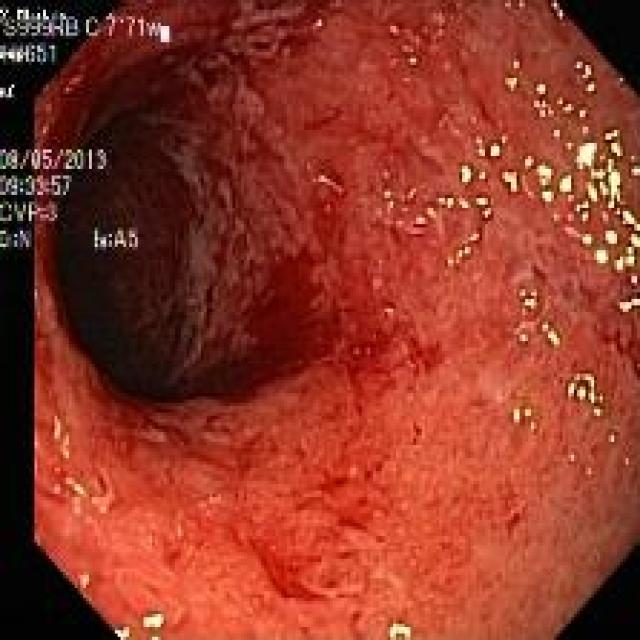ulcerative-colitis-grade-3: (6, 1, 640, 640)
